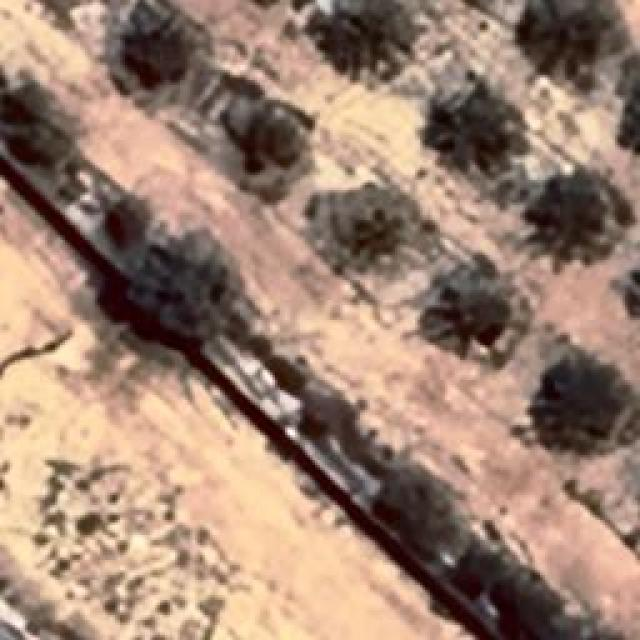PalmTree: (18, 100, 590, 402), (93, 83, 631, 118), (428, 268, 526, 352), (435, 84, 523, 172), (327, 184, 415, 266), (527, 0, 620, 72), (228, 108, 310, 186), (324, 0, 418, 68), (554, 168, 624, 252), (116, 28, 186, 90), (615, 66, 640, 164), (622, 256, 640, 334), (629, 256, 640, 334)
